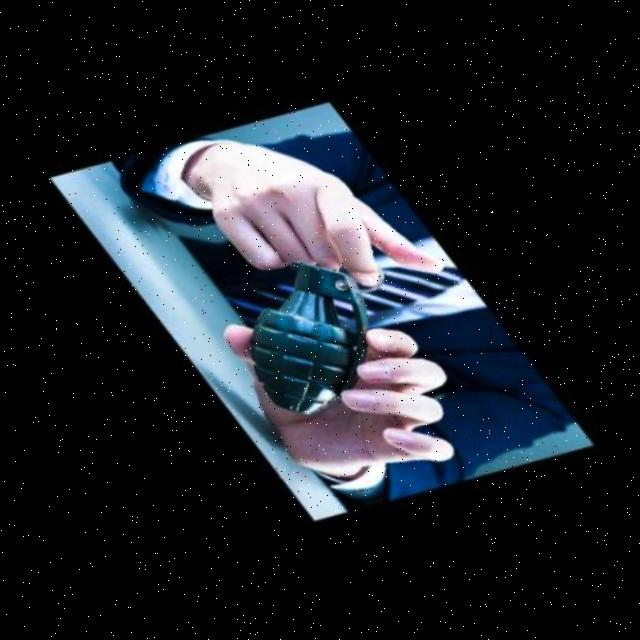grenade: (210, 228, 394, 445)
